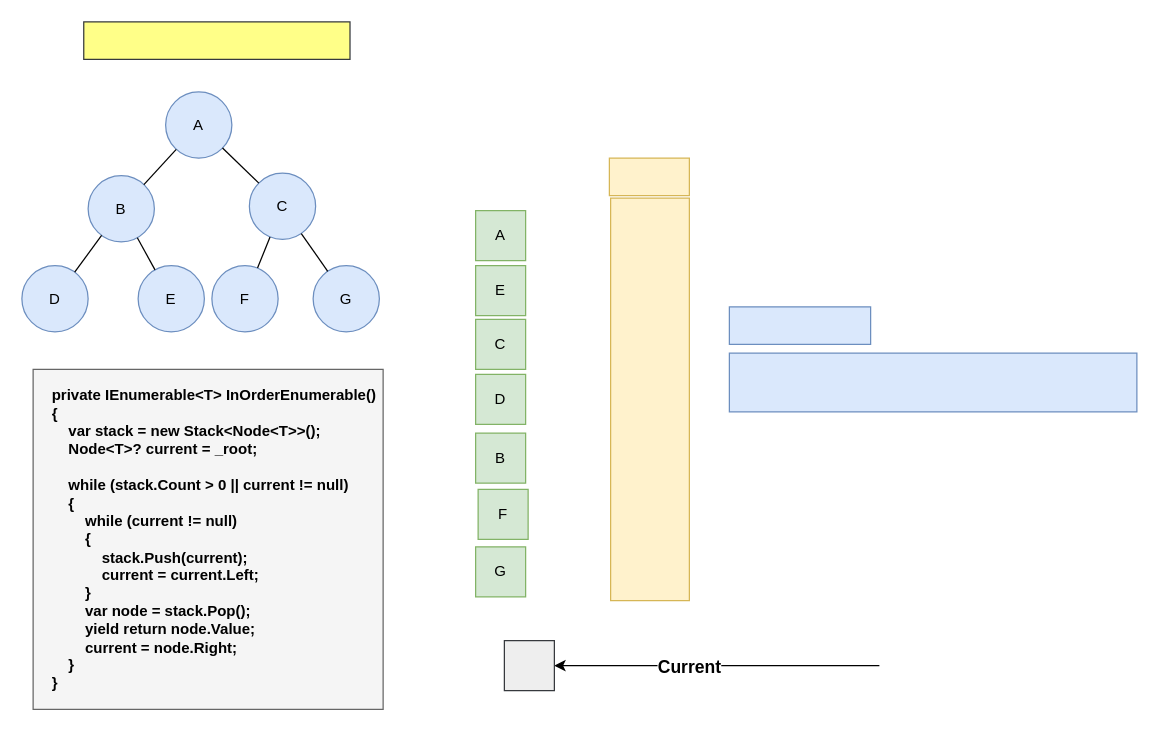
The diagram is 1159 pixels wide and 731 high, and some of its shapes have lost their labels. The shapes that lost their labels are listed below. From the top down, each one's box as (x1, y1, x2, y2) in pixels, then its label:
(82, 21, 350, 59): VENSTRE - ROOT - HØYRE
(608, 157, 689, 196): Stack
(728, 306, 871, 344): IEnumerable<>
(503, 639, 554, 691): NULL
